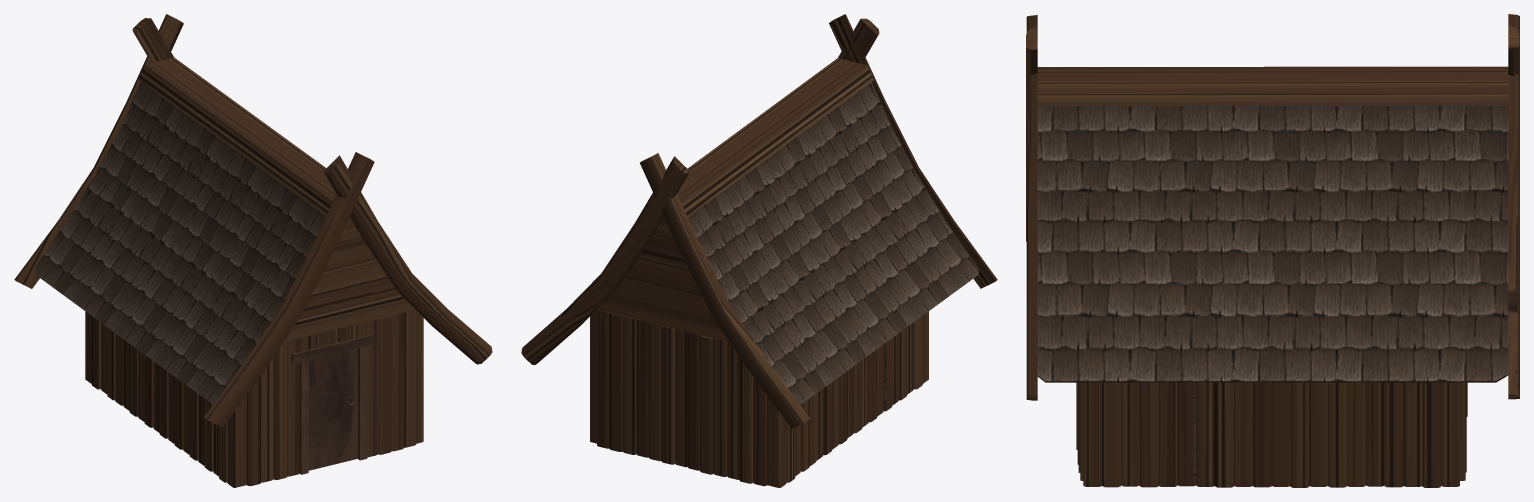
The model's file is Viking Shack.fbx.
3 renders of one model, left to right at view 1: azimuth 30°, elevation 25°; view 2: azimuth 150°, elevation 25°; view 3: azimuth 270°, elevation 25°, orthographic. The views are drawn at different scales.
Visible parts, largest first — view 1: Viking_Shack_001; view 2: Viking_Shack_001; view 3: Viking_Shack_001.
Boxes of the visible parts, x1=… form: Viking_Shack_001: x1=14, y1=14, x2=492, y2=487; Viking_Shack_001: x1=521, y1=14, x2=997, y2=487; Viking_Shack_001: x1=1026, y1=14, x2=1519, y2=487.
Bounding box in the file's own units: 5.18 × 5.57 × 6.1.
